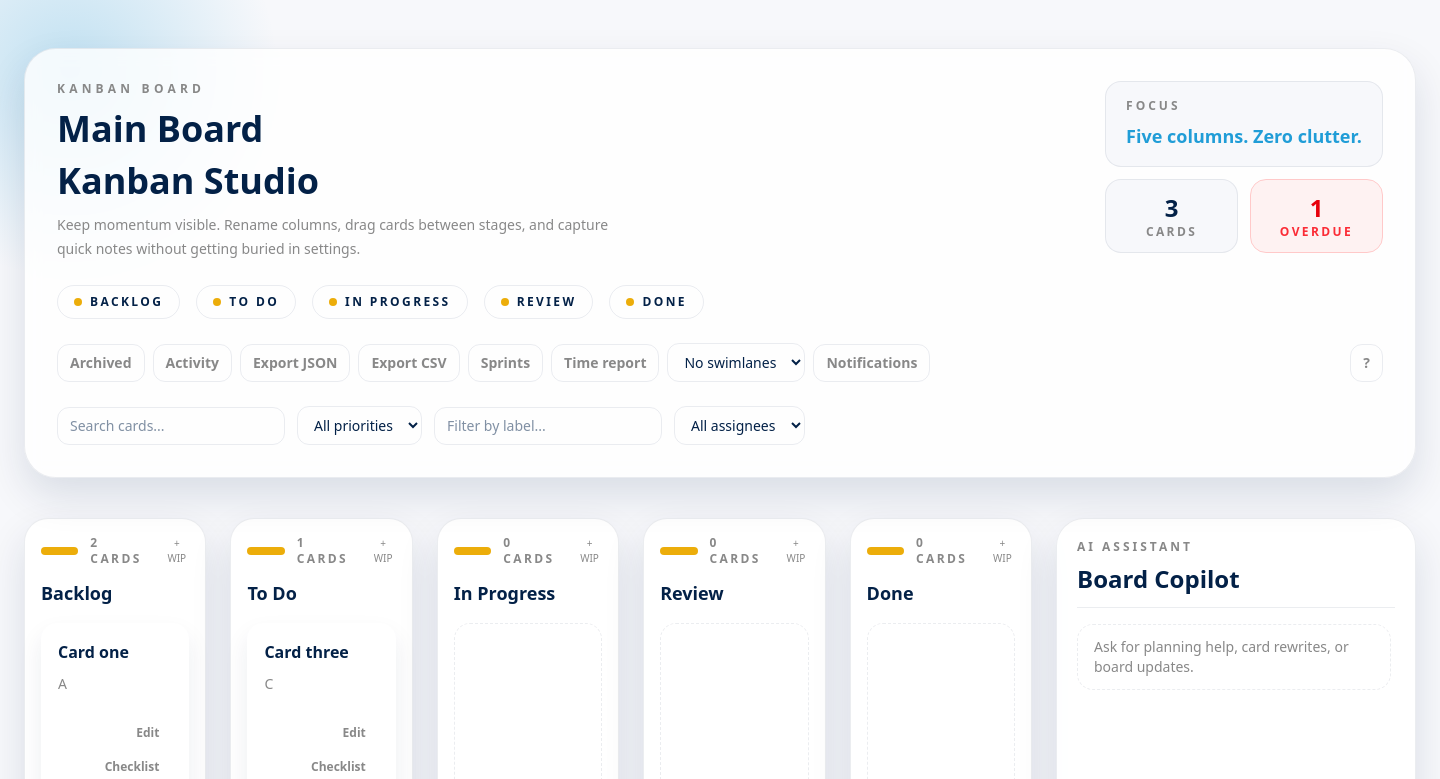
it: KanbanBoard › cancels card edit on Escape key
The image size is (1440, 779).
Click the button with aria-label "edit card one" at (148, 733), box [123,720,172,746]
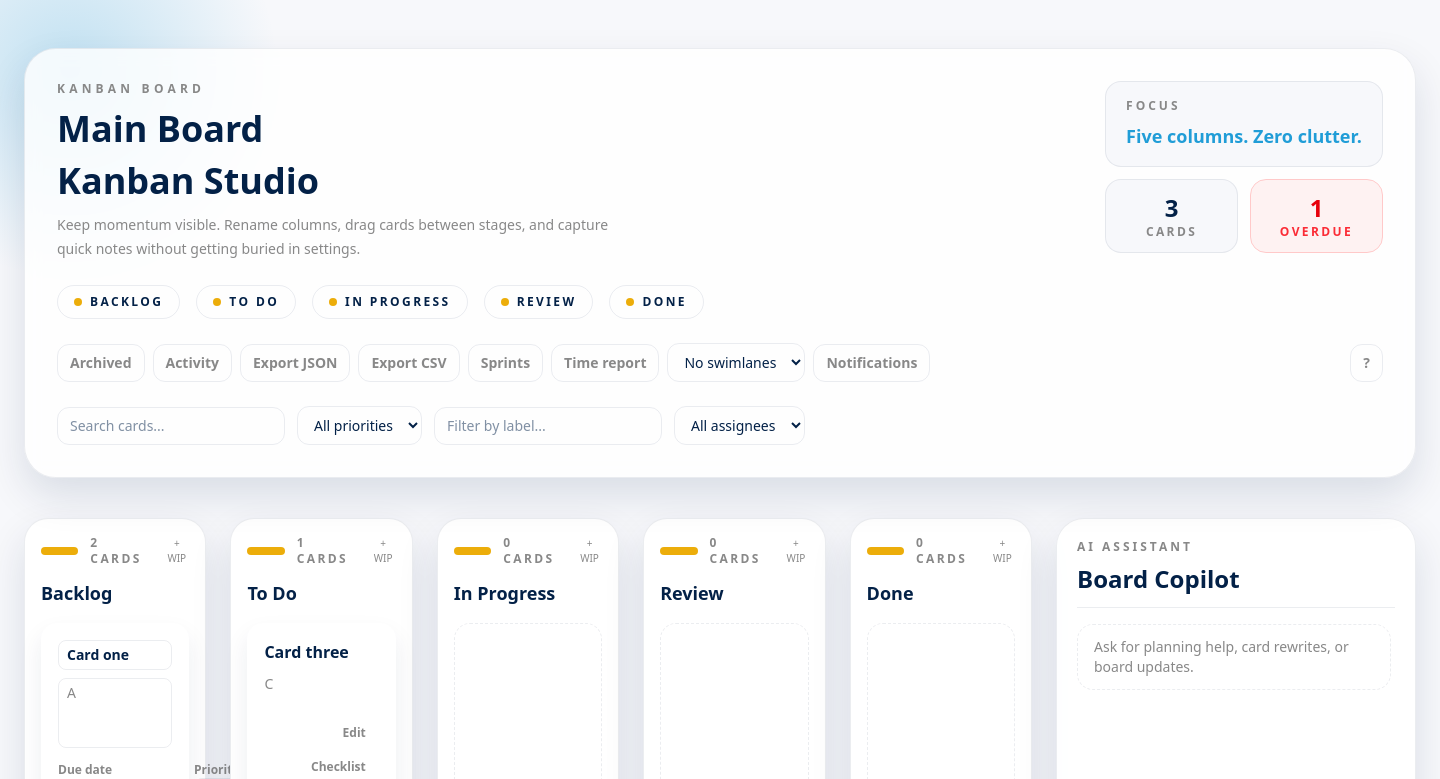
Replace the text in the field named "edit title for card one" with "Temporary title" at (115, 655), box [58,640,172,670]
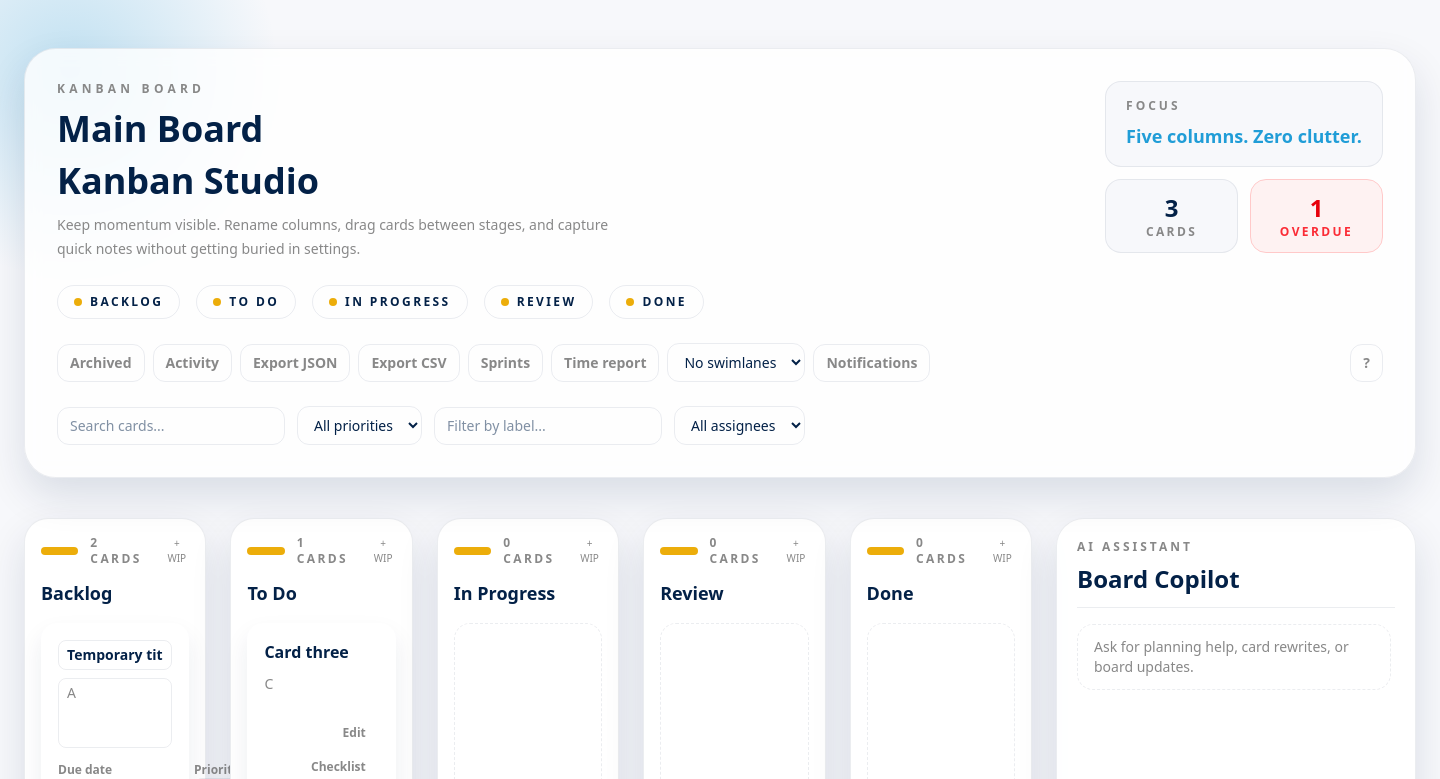
Press Escape
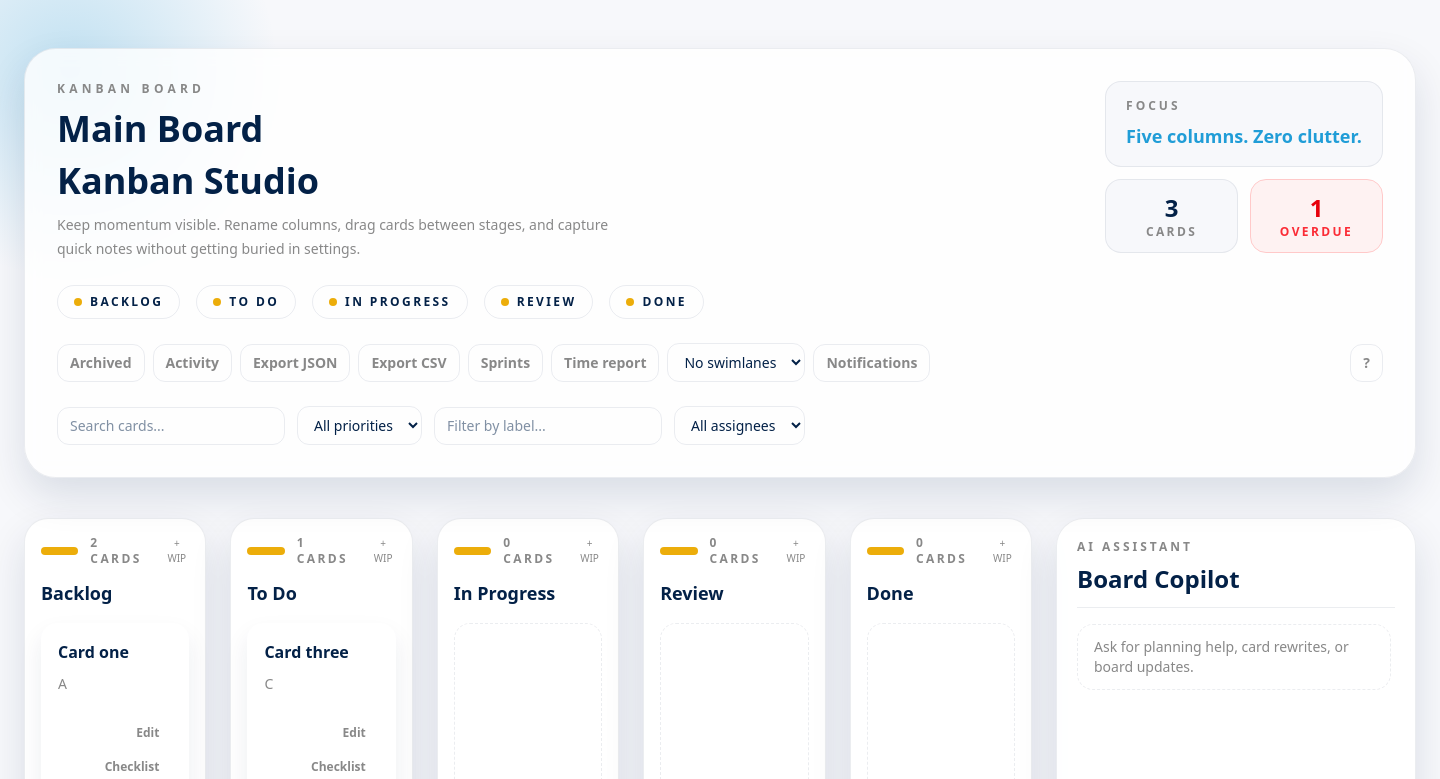
Expected: the heading "Card one" is shown, [58,640,129,664]
